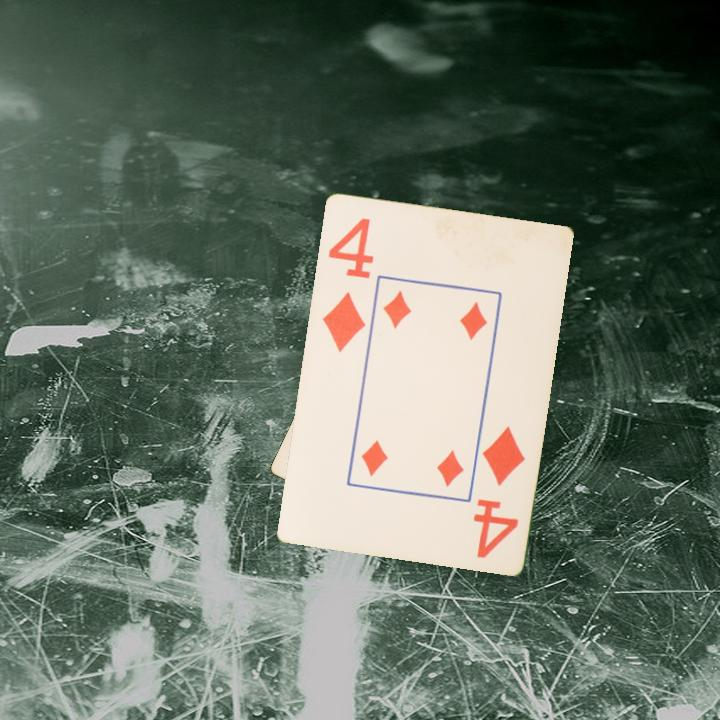4d: (469, 421, 528, 561), (318, 213, 376, 354)
